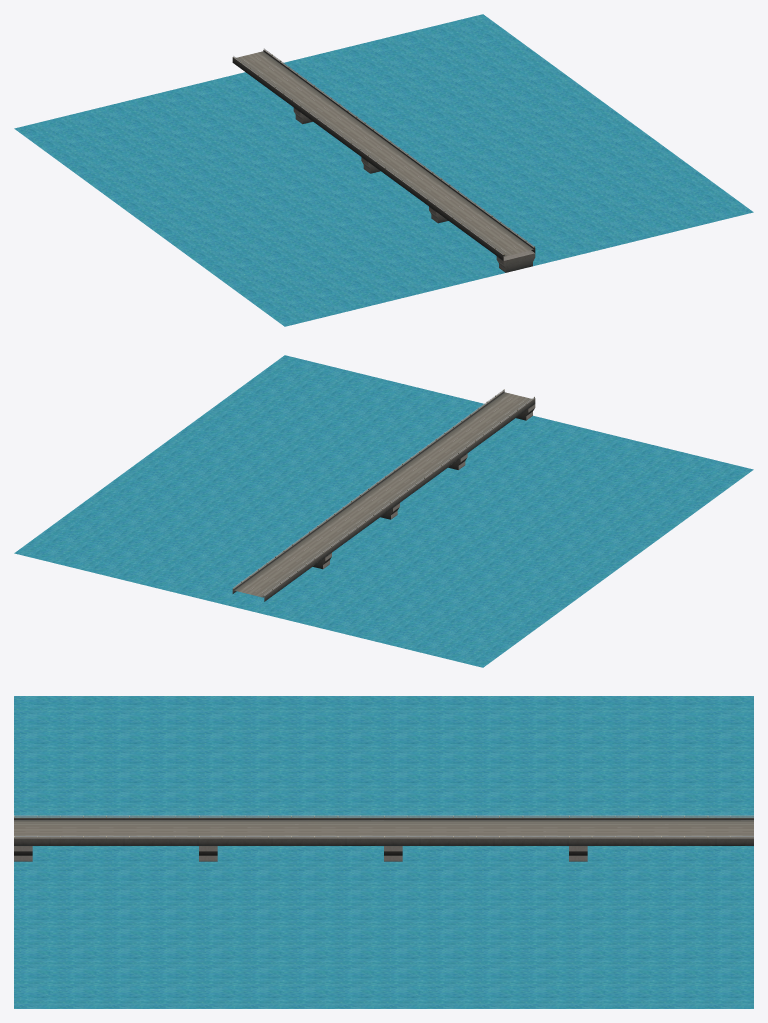
Rendered from Track01_Low.FBX.
3 renders of one model, top to bottom at view 1: azimuth 30°, elevation 25°; view 2: azimuth 150°, elevation 25°; view 3: azimuth 270°, elevation 25°, orthographic. The views are drawn at different scales.
Visible parts, largest first — view 1: Wave, Road (×2), Pillar; view 2: Wave, Road (×2); view 3: Wave, Road (×2).
Part boxes in pixels (<box>): Wave: <box>14,14,753,326</box>; Road (×2): <box>232,48,535,260</box>; Pillar: <box>496,250,535,272</box>; Wave: <box>14,355,753,667</box>; Road (×2): <box>232,389,535,601</box>; Wave: <box>14,696,753,1008</box>; Road (×2): <box>14,815,753,845</box>.
Size of the model in its own units: 6300 by 251 by 6300.
